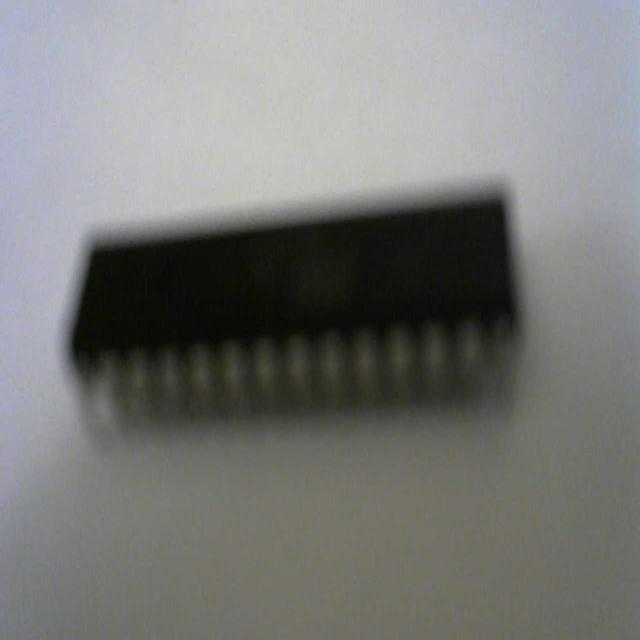atmega: (64, 179, 526, 439)
